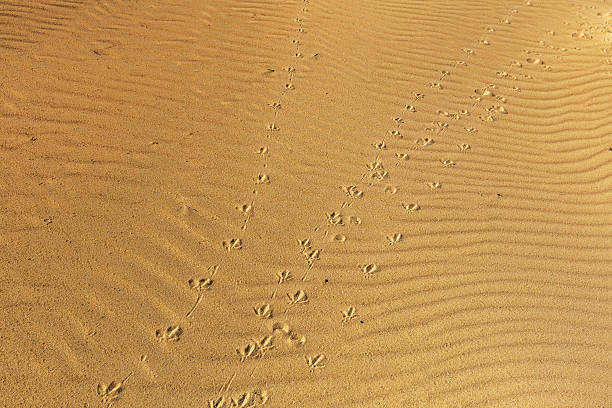animal_footprint: (186, 266, 217, 316), (97, 376, 128, 407), (231, 390, 268, 407), (155, 325, 182, 341), (366, 159, 387, 179), (236, 342, 257, 361), (237, 203, 252, 229), (305, 354, 325, 371), (287, 290, 307, 304), (341, 185, 362, 197), (222, 238, 241, 251), (358, 263, 378, 275), (254, 304, 270, 318), (342, 307, 356, 321), (278, 270, 292, 283), (327, 213, 343, 224), (387, 233, 402, 244), (415, 137, 433, 145), (402, 203, 419, 211), (427, 180, 441, 189), (257, 174, 269, 183), (442, 159, 455, 166), (332, 234, 345, 241), (460, 143, 470, 151), (527, 58, 543, 63), (298, 239, 309, 246), (390, 130, 401, 137), (396, 153, 408, 159), (431, 81, 441, 88), (256, 147, 267, 153), (405, 105, 415, 111), (270, 103, 281, 108), (499, 106, 506, 113), (286, 83, 293, 88), (475, 89, 482, 94)
